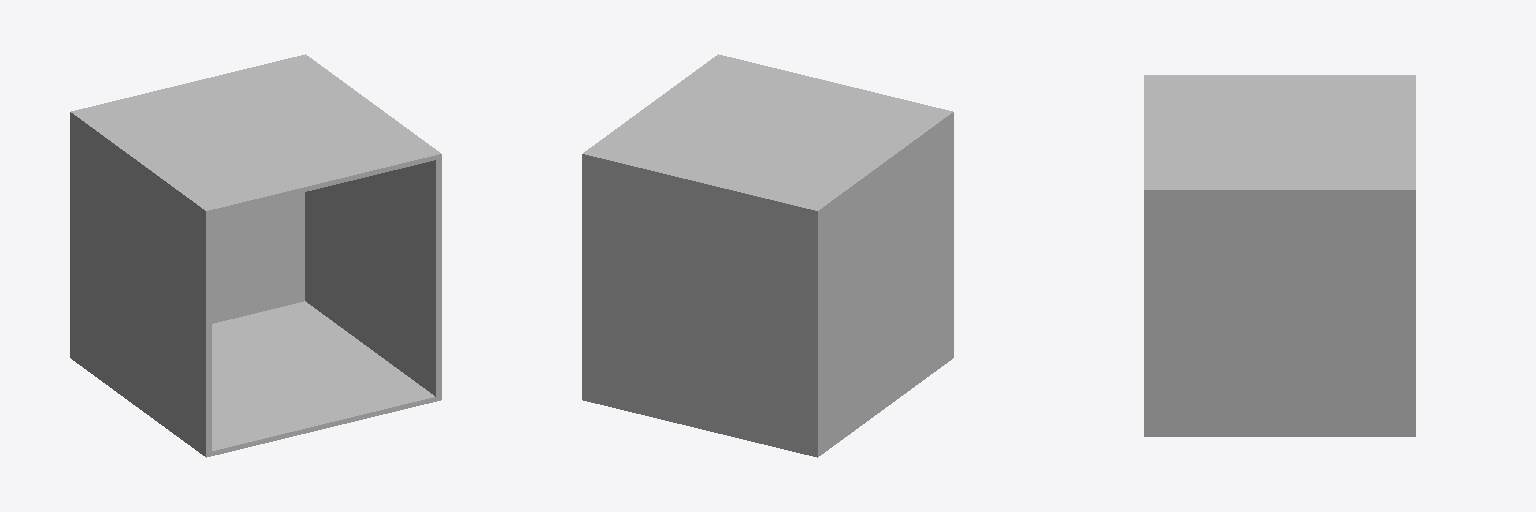
Rendered from night_cozy.obj.
3 views of the same model, side by side, from view 1: azimuth 30°, elevation 25°; view 2: azimuth 150°, elevation 25°; view 3: azimuth 270°, elevation 25° (orthographic).
Parts seen in each view (by area): view 1: Cube.036; view 2: Cube.036; view 3: Cube.036.
Part boxes in pixels (bbox=[...]): Cube.036: bbox=[70, 54, 441, 457]; Cube.036: bbox=[582, 54, 953, 457]; Cube.036: bbox=[1144, 75, 1415, 436].
Bounding box in the file's own units: 0.5 × 0.5 × 0.5.